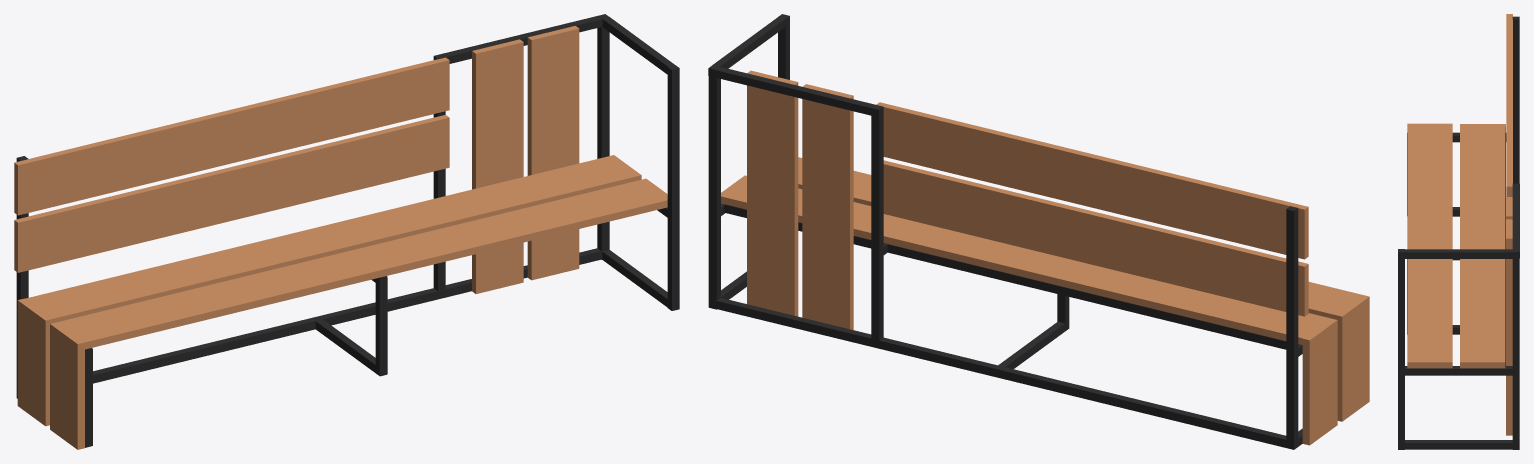
3 renders of one model, left to right at view 1: azimuth 30°, elevation 25°; view 2: azimuth 150°, elevation 25°; view 3: azimuth 270°, elevation 25°, orthographic. The views are drawn at different scales.
Parts seen in each view (by area): view 1: Material_038-material (×2), Material_044-material, Material_046-material, Material_034-material, Material_039-material (×7), Material_042-material, Material_043-material, Material_033-material, Material_041-material, Material_035-material, Material_037-material, Material_010-material; view 2: Material_046-material, Material_044-material, Material_039-material (×5), Material_034-material, Material_042-material, Material_043-material, Material_038-material (×2), Material_033-material, Material_010-material, Material_037-material, Material_041-material, Material_035-material; view 3: Material_038-material (×2), Material_034-material, Material_039-material (×6), Material_042-material, Material_046-material, Material_010-material, Material_041-material, Material_043-material, Material_033-material.
Part boxes in pixels (x1=…): Material_038-material (×2): x1=50, y1=178, x2=667, y2=449; Material_044-material: x1=14, y1=115, x2=449, y2=272; Material_046-material: x1=14, y1=57, x2=449, y2=215; Material_034-material: x1=25, y1=155, x2=641, y2=322; Material_039-material (×7): x1=85, y1=14, x2=679, y2=447; Material_042-material: x1=527, y1=26, x2=579, y2=280; Material_043-material: x1=472, y1=39, x2=523, y2=293; Material_033-material: x1=17, y1=298, x2=52, y2=426; Material_041-material: x1=434, y1=16, x2=602, y2=63; Material_035-material: x1=312, y1=316, x2=386, y2=376; Material_037-material: x1=433, y1=54, x2=445, y2=290; Material_010-material: x1=16, y1=156, x2=28, y2=398; Material_046-material: x1=876, y1=102, x2=1308, y2=259; Material_044-material: x1=883, y1=160, x2=1308, y2=316; Material_039-material (×5): x1=708, y1=14, x2=1302, y2=447; Material_034-material: x1=721, y1=175, x2=1329, y2=344; Material_042-material: x1=747, y1=70, x2=798, y2=316; Material_043-material: x1=802, y1=84, x2=853, y2=329; Material_038-material (×2): x1=798, y1=157, x2=1369, y2=421; Material_033-material: x1=1302, y1=318, x2=1337, y2=445; Material_010-material: x1=1286, y1=206, x2=1298, y2=449; Material_037-material: x1=871, y1=105, x2=883, y2=348; Material_041-material: x1=708, y1=67, x2=882, y2=117; Material_035-material: x1=995, y1=321, x2=1067, y2=369; Material_038-material (×2): x1=1407, y1=123, x2=1452, y2=368; Material_034-material: x1=1460, y1=126, x2=1505, y2=368; Material_039-material (×6): x1=1398, y1=132, x2=1519, y2=449; Material_042-material: x1=1506, y1=219, x2=1512, y2=435; Material_046-material: x1=1506, y1=14, x2=1512, y2=196; Material_010-material: x1=1512, y1=16, x2=1519, y2=183; Material_041-material: x1=1512, y1=184, x2=1519, y2=258; Material_043-material: x1=1506, y1=197, x2=1512, y2=219; Material_033-material: x1=1460, y1=124, x2=1505, y2=132.
Bounding box in the file's own units: 12.29 × 4.75 × 2.65.
